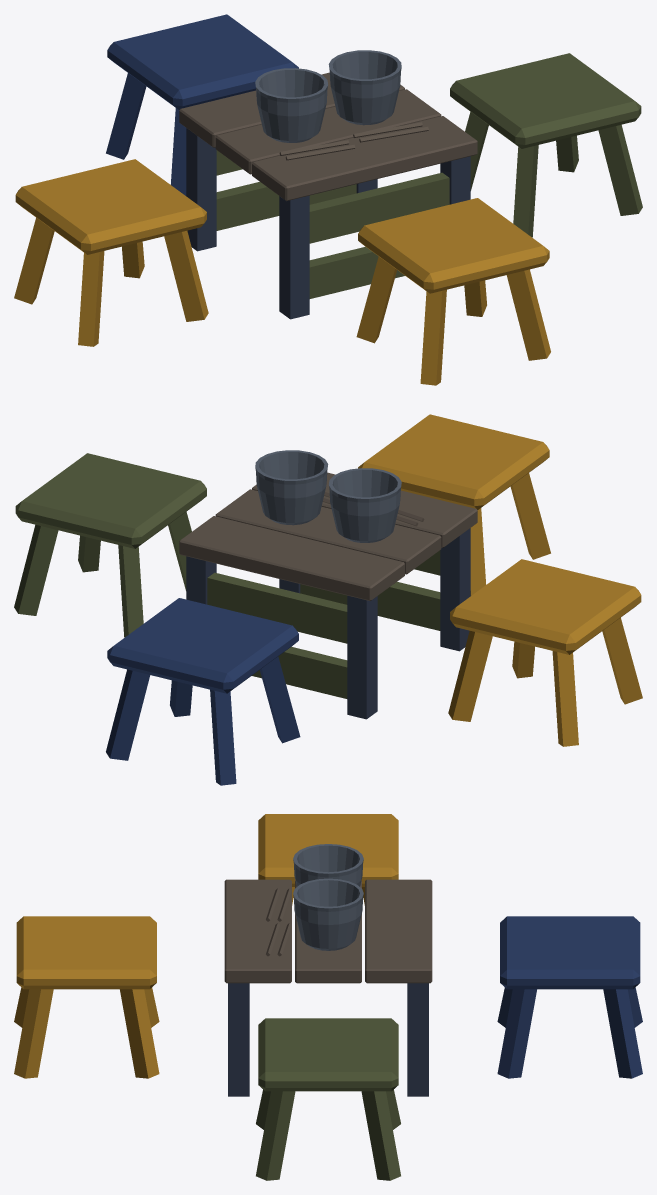
The model's file is bw_targ_stool_set.glb.
The picture shows the model from 3 angles, top to bottom: view 1: azimuth 30°, elevation 25°; view 2: azimuth 150°, elevation 25°; view 3: azimuth 270°, elevation 25°; orthographic projection. The views are drawn at different scales.
Visible parts, largest first — view 1: chopstick.002, chopstick.003, chopstick.001, chopstick.004, chopstick, chopstick.005; view 2: chopstick.002, chopstick.003, chopstick.004, chopstick.001, chopstick, chopstick.005; view 3: chopstick.002, chopstick.001, chopstick.003, chopstick.004, chopstick, chopstick.005.
Part boxes in pixels (x1=…): chopstick.002: x1=14, y1=159, x2=550, y2=385; chopstick.003: x1=216, y1=53, x2=642, y2=298; chopstick.001: x1=179, y1=72, x2=477, y2=200; chopstick.004: x1=106, y1=14, x2=298, y2=195; chopstick: x1=255, y1=50, x2=401, y2=142; chopstick.005: x1=186, y1=128, x2=470, y2=319; chopstick.002: x1=358, y1=414, x2=642, y2=746; chopstick.003: x1=14, y1=453, x2=440, y2=698; chopstick.004: x1=106, y1=598, x2=300, y2=785; chopstick.001: x1=179, y1=472, x2=477, y2=600; chopstick: x1=255, y1=450, x2=401, y2=542; chopstick.005: x1=186, y1=528, x2=470, y2=719; chopstick.002: x1=14, y1=814, x2=398, y2=1078; chopstick.001: x1=224, y1=879, x2=432, y2=983; chopstick.003: x1=256, y1=1018, x2=400, y2=1180; chopstick.004: x1=497, y1=916, x2=642, y2=1078; chopstick: x1=293, y1=844, x2=363, y2=950; chopstick.005: x1=228, y1=983, x2=428, y2=1096.
Size of the model in its own units: 1.6 by 0.5 by 1.6.
